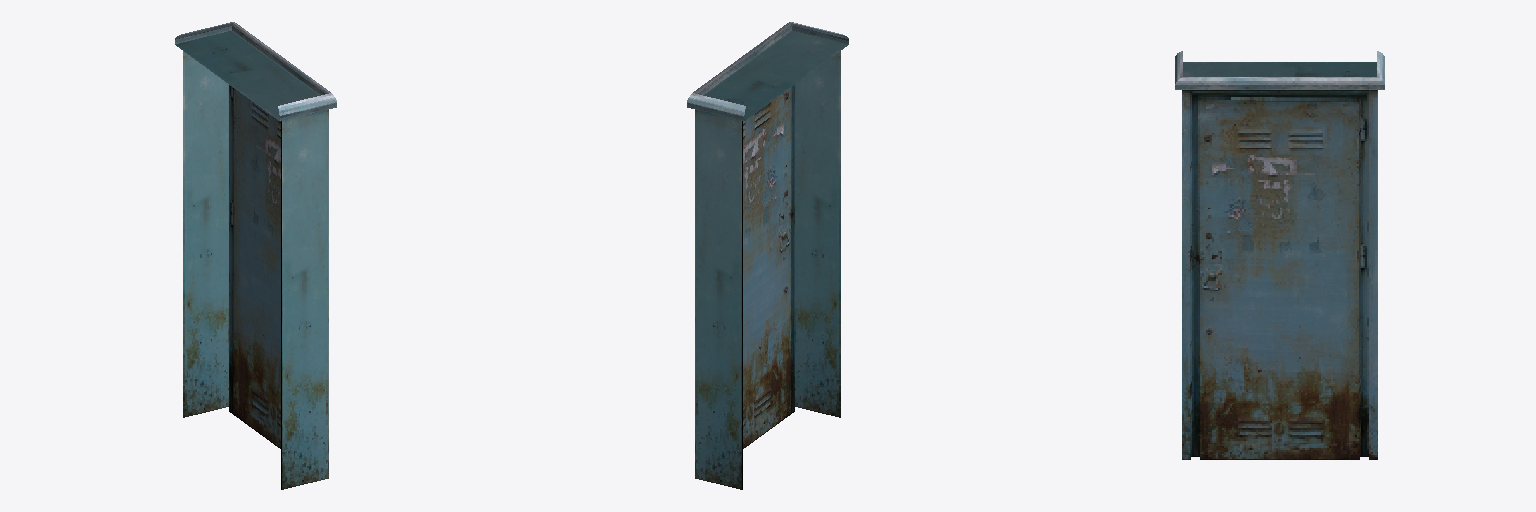
3 views of the same model, side by side, from view 1: azimuth 30°, elevation 25°; view 2: azimuth 150°, elevation 25°; view 3: azimuth 270°, elevation 25° (orthographic).
Visible parts, largest first — view 1: Electric02; view 2: Electric02; view 3: Electric02.
Boxes of the visible parts, x1,y1,x2,y2 form: Electric02: [175, 22, 336, 489]; Electric02: [687, 22, 848, 489]; Electric02: [1175, 51, 1384, 459].
Bounding box in the file's own units: 2.6 × 16.55 × 8.2.
Materials: 1 (1 with a texture image).